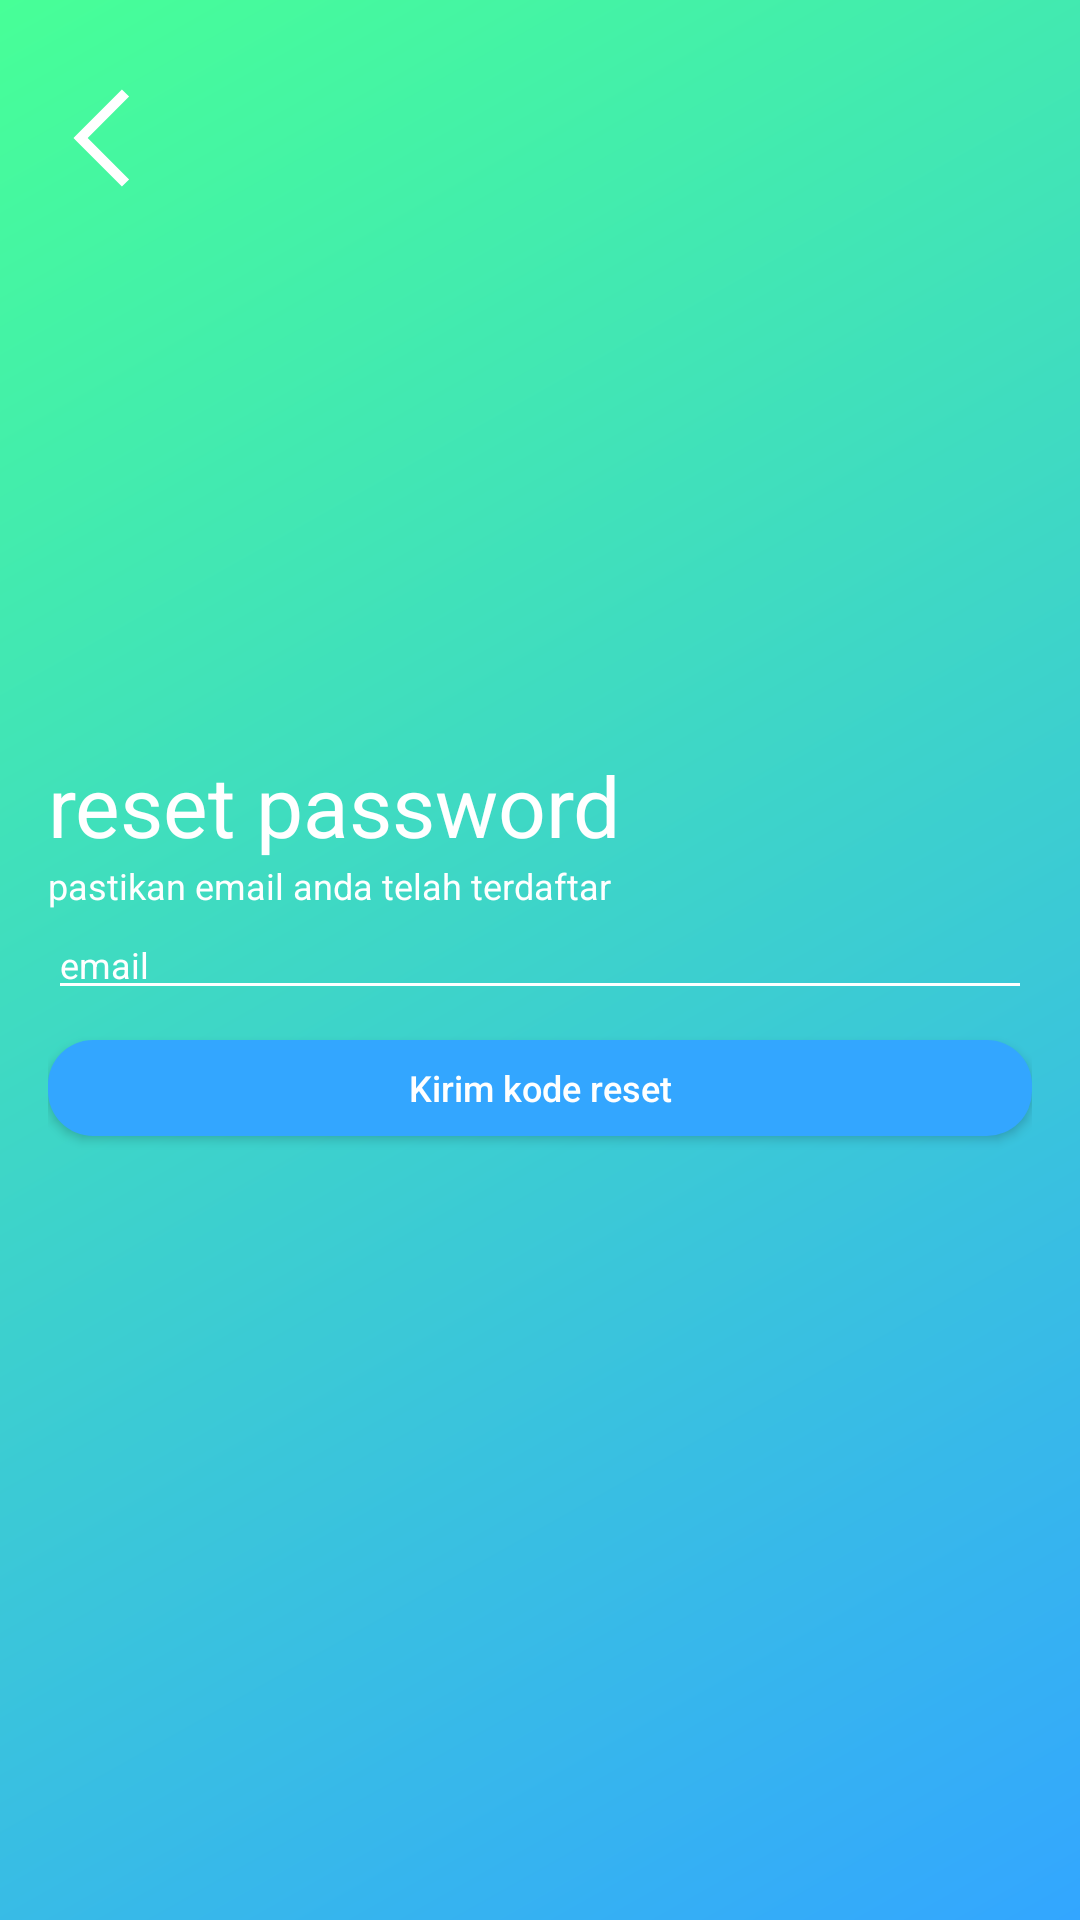

Screen size 1080x1920. Icon name, then its box in pixels as (x1, y1, x2, y2):
back: (73, 89, 129, 187)
